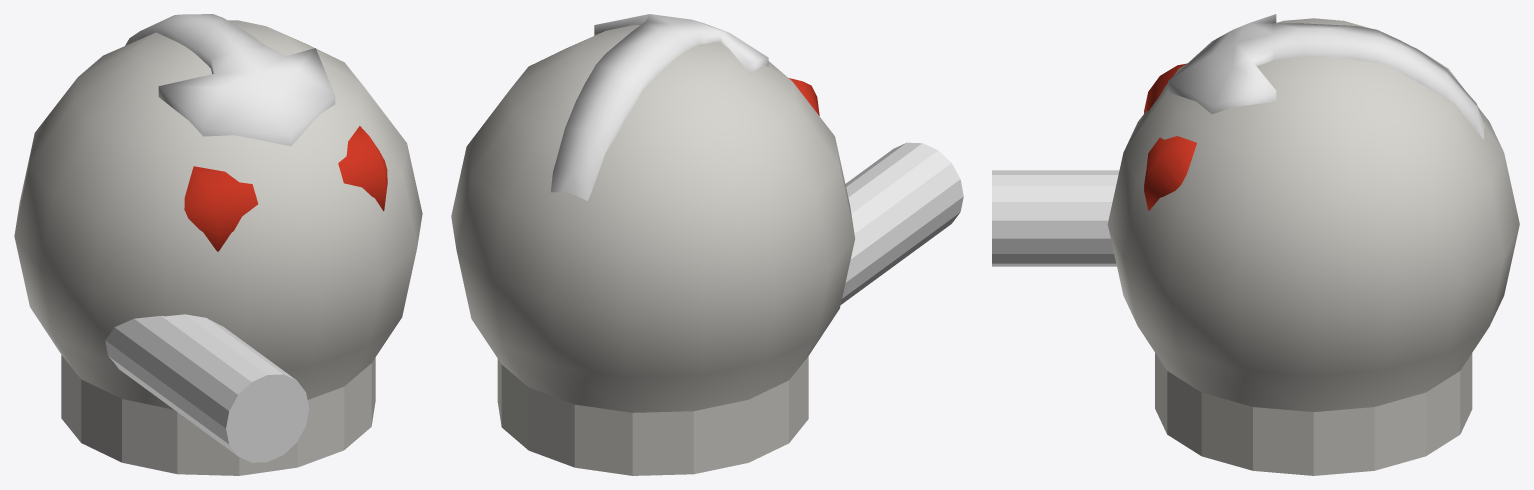
Rendered from PlayerModel.fbx.
The picture shows the model from 3 angles, left to right: view 1: azimuth 30°, elevation 25°; view 2: azimuth 150°, elevation 25°; view 3: azimuth 270°, elevation 25°; orthographic projection.
Parts seen in each view (by area): view 1: Body, Gun, Arrow, Eyes; view 2: Body, Arrow, Gun; view 3: Body, Arrow, Gun, Eyes.
Boxes of the visible parts, x1=… form: Body: x1=14, y1=20, x2=422, y2=475; Gun: x1=105, y1=314, x2=309, y2=462; Arrow: x1=125, y1=14, x2=335, y2=146; Eyes: x1=184, y1=126, x2=387, y2=251; Body: x1=451, y1=25, x2=855, y2=475; Arrow: x1=551, y1=14, x2=768, y2=200; Gun: x1=840, y1=142, x2=963, y2=304; Body: x1=1107, y1=18, x2=1519, y2=475; Arrow: x1=1168, y1=14, x2=1484, y2=139; Gun: x1=992, y1=170, x2=1119, y2=266; Eyes: x1=1144, y1=63, x2=1196, y2=210.
Bounding box in the file's own units: 100 × 102 × 128.
